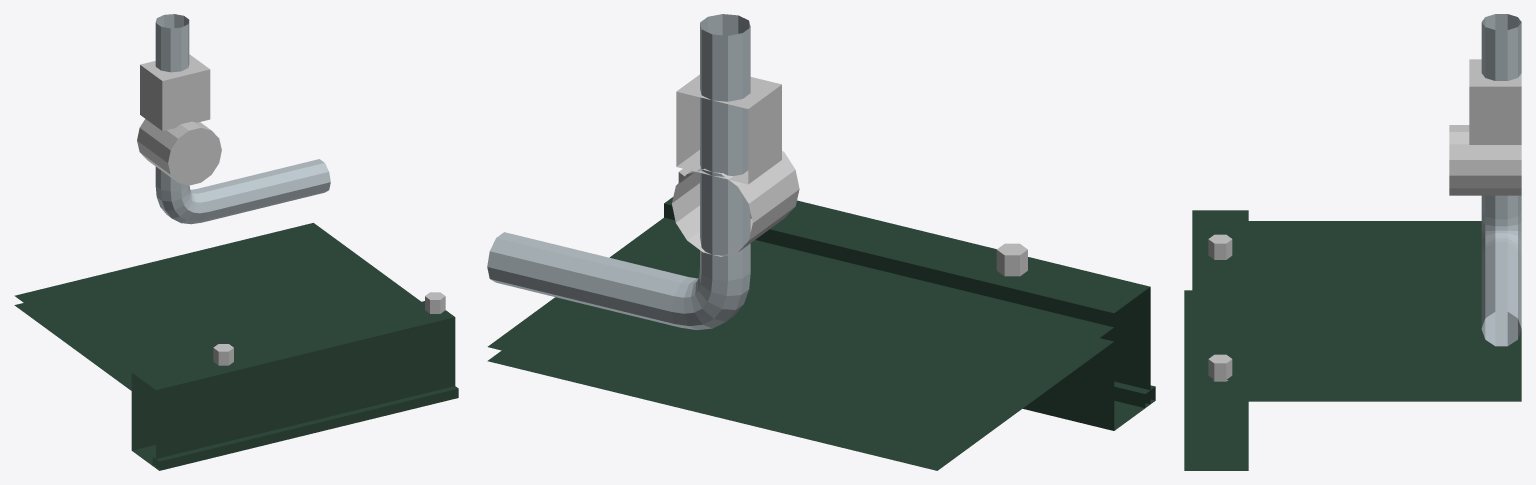
The model's file is cell_33.obj.
The picture shows the model from 3 angles, left to right: view 1: azimuth 30°, elevation 25°; view 2: azimuth 150°, elevation 25°; view 3: azimuth 270°, elevation 25°; orthographic projection. The views are drawn at different scales.
Bounding box in the file's own units: 1 × 1 × 0.84.
